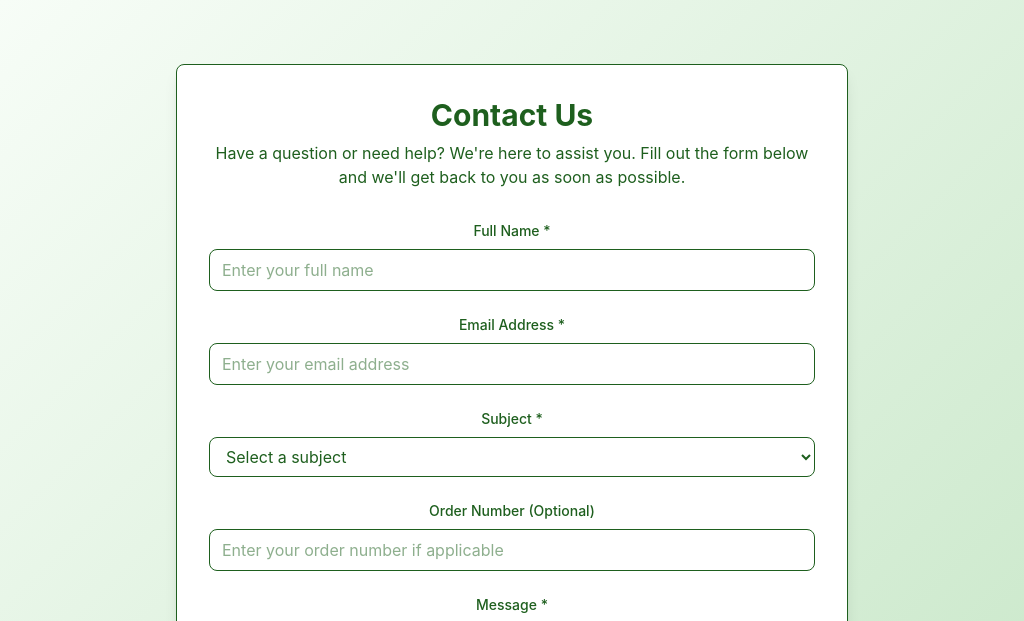
Test case: ContactUsPage › Form validation › validates email format in real-time
Type invalid email
Type "test@" into the field labelled "Email Address *" at (512, 364), box [209,343,815,385]
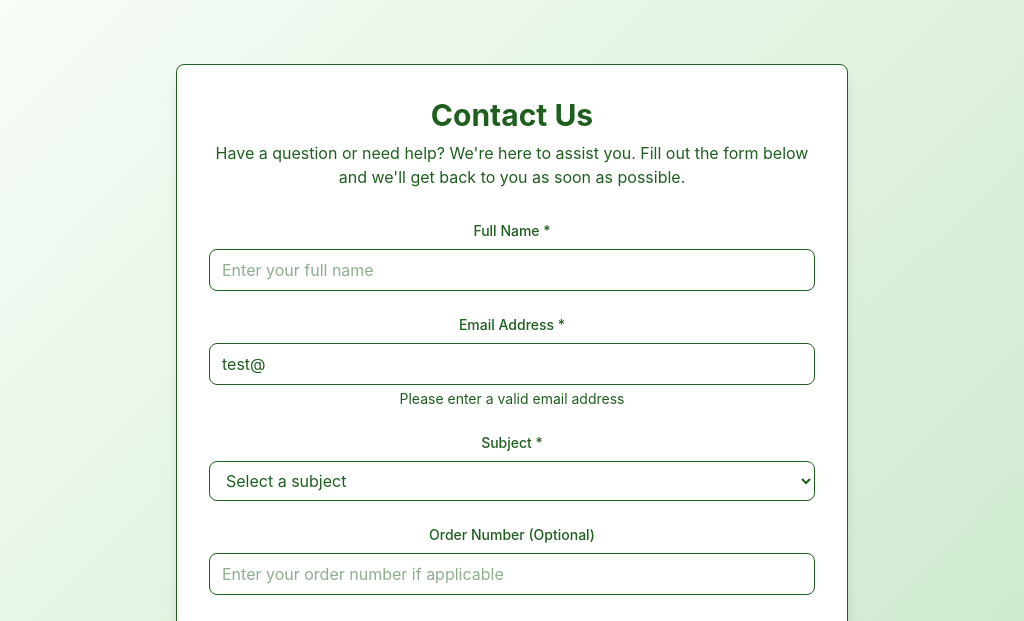
Now the text "Please enter a valid email address" is shown, box [400,390,624,407]
Type valid email
Replace the text in the field labelled "Email Address *" with "test@example.com" at (512, 364), box [209,343,815,385]
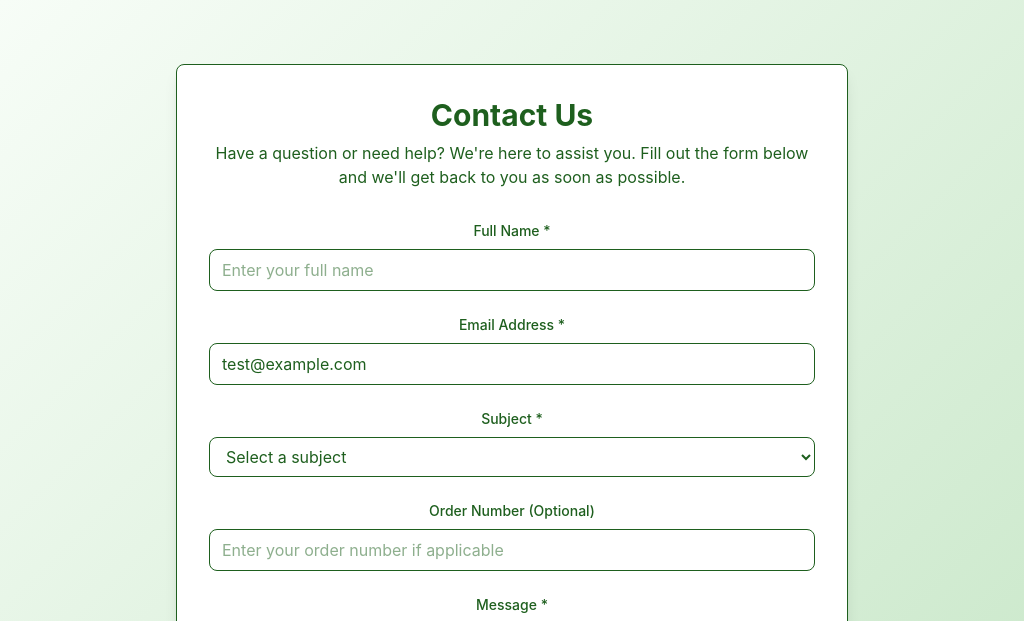
Now the text "Please enter a valid email address" is gone
